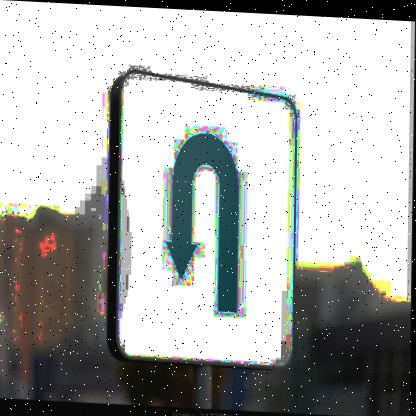U-turn: (140, 107, 270, 344)
